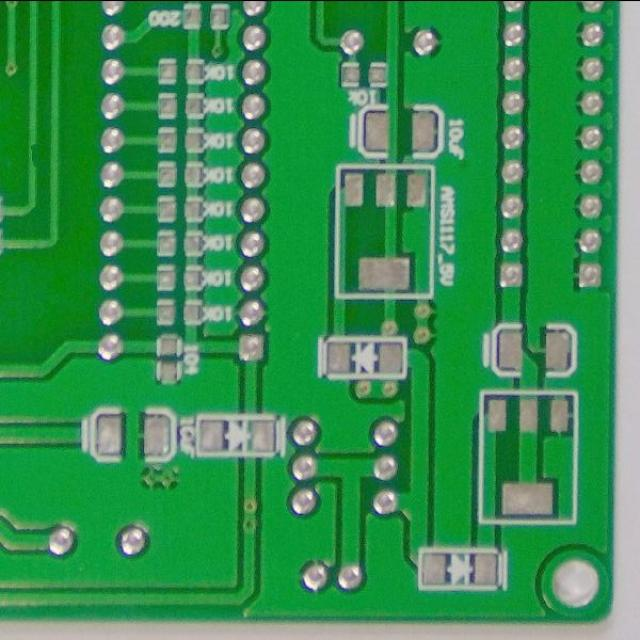mouse_bite: (20, 138, 46, 172)
